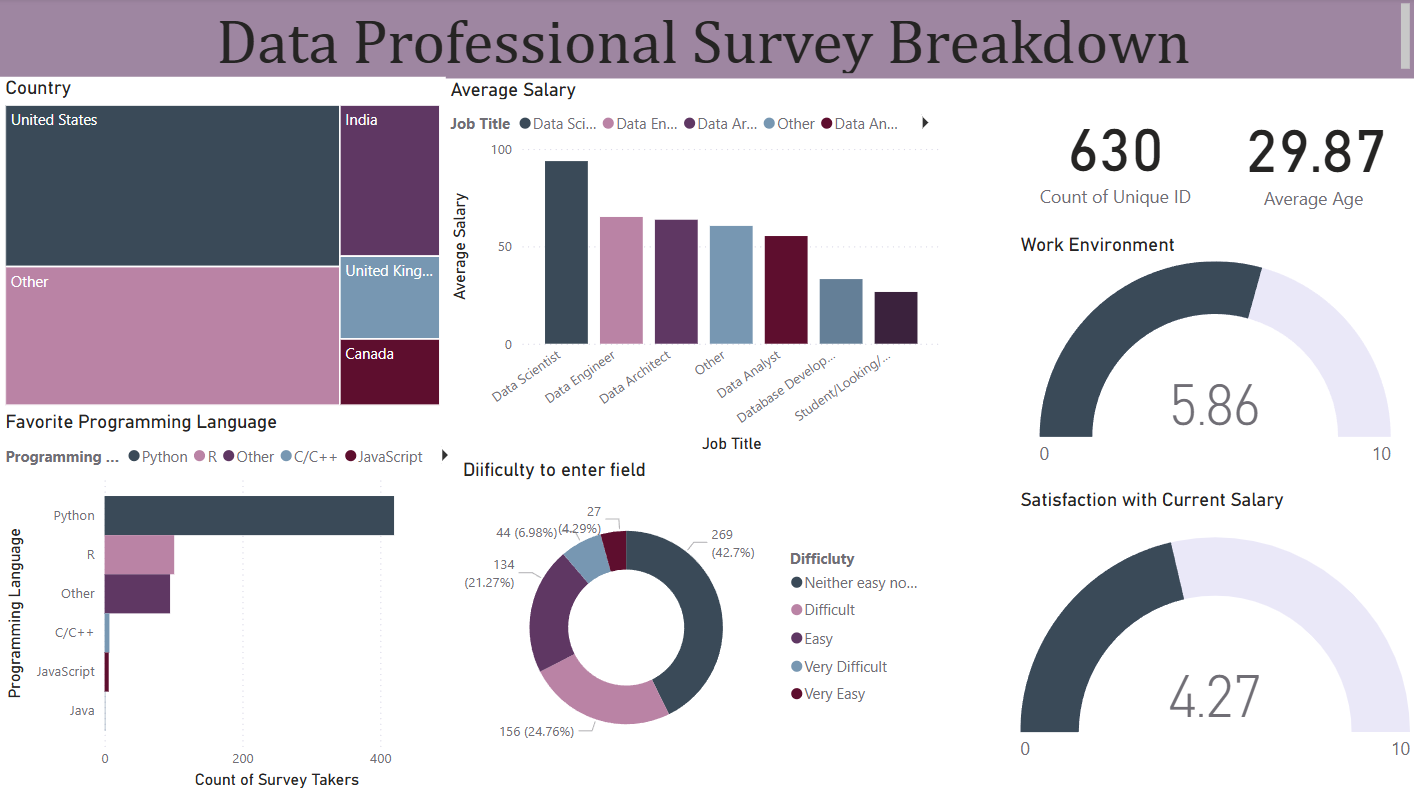

What the dashboard file says about the page in this screenshot:
{"tool":"powerbi","page":{"name":"Page 1","canvas":[1280,720],"ordinal":0},"visuals":[{"type":"card","fields":{"Values":["Count(Data Professional Survey.Unique ID)"]},"box":[918,71.3,181.9,140.1],"z":0},{"type":"card","fields":{"Values":["Avg(Data Professional Survey.Q10 - Current Age)"]},"box":[1099.9,72.5,180.6,140.1],"z":1000},{"type":"columnChart","title":"Average Salary","fields":{"Category":["Data Professional Survey.Q1 - Which Title Best Fits your Current Role?.1.1"],"Y":["Avg(Data Professional Survey.Average Salary)"],"Series":["Data Professional Survey.Q1 - Which Title Best Fits your Current Role?.1.1"]},"box":[403.1,72.5,453.5,344.1],"z":2000},{"type":"textbox","box":[0,0,1280.5,72.7],"z":3000},{"type":"barChart","title":"Favorite Programming Language","fields":{"Category":["Data Professional Survey.Q5 - Favorite Programming Language.1"],"Y":["CountNonNull(Data Professional Survey.Unique ID)"],"Series":["Data Professional Survey.Q5 - Favorite Programming Language.1"]},"box":[0,373.6,421.5,346.5],"z":4000},{"type":"gauge","title":"Work Environment ","fields":{"Y":["Avg(Data Professional Survey.Q6 - How Happy are you in your Current Position with the following? (Coworkers))"],"MinValue":["Min(Data Professional Survey.Q6 - How Happy are you in your Current Position with the following? (Coworkers))1"],"MaxValue":["Max(Data Professional Survey.Q6 - How Happy are you in your Current Position with the following? (Coworkers))2"]},"box":[918,212.6,362.5,221.2],"z":5000},{"type":"gauge","title":"Satisfaction with Current Salary","fields":{"Y":["Avg(Data Professional Survey.Q6 - How Happy are you in your Current Position with the following? (Salary))"],"MinValue":["Min(Data Professional Survey.Q6 - How Happy are you in your Current Position with the following? (Salary))"],"MaxValue":["Max(Data Professional Survey.Q6 - How Happy are you in your Current Position with the following? (Salary))1"]},"box":[918,443.6,362.5,276.5],"z":6000},{"type":"treemap","title":"Country","fields":{"Group":["Data Professional Survey.Q11 - Which Country do you live in?.1"],"Values":["CountNonNull(Data Professional Survey.Q11 - Which Country do you live in?.1)"]},"box":[0,71.3,403.1,302.3],"z":7000},{"type":"donutChart","title":"Diificulty to enter field","fields":{"Category":["Data Professional Survey.Q7 - How difficult was it for you to break into Data?"],"Y":["CountNonNull(Data Professional Survey.Q7 - How difficult was it for you to break into Data?)"]},"box":[414.1,416.6,432.6,286.3],"z":8000}]}

Visuals, with their boxes in screenshot pixels (x1, y1, x2, y2), scaled from the page's 1280x720 canvas onto the 1414x791 screenshot:
card - Count(Data Professional Survey.Unique ID): rect(1014, 78, 1215, 232)
card - Avg(Data Professional Survey.Q10 - Current Age): rect(1215, 80, 1413, 234)
"Average Salary" columnChart: rect(445, 80, 946, 458)
textbox: rect(0, 0, 1413, 80)
"Favorite Programming Language" barChart: rect(0, 410, 466, 790)
"Work Environment " gauge: rect(1014, 234, 1413, 477)
"Satisfaction with Current Salary" gauge: rect(1014, 487, 1413, 790)
"Country" treemap: rect(0, 78, 445, 410)
"Diificulty to enter field" donutChart: rect(457, 458, 935, 772)
